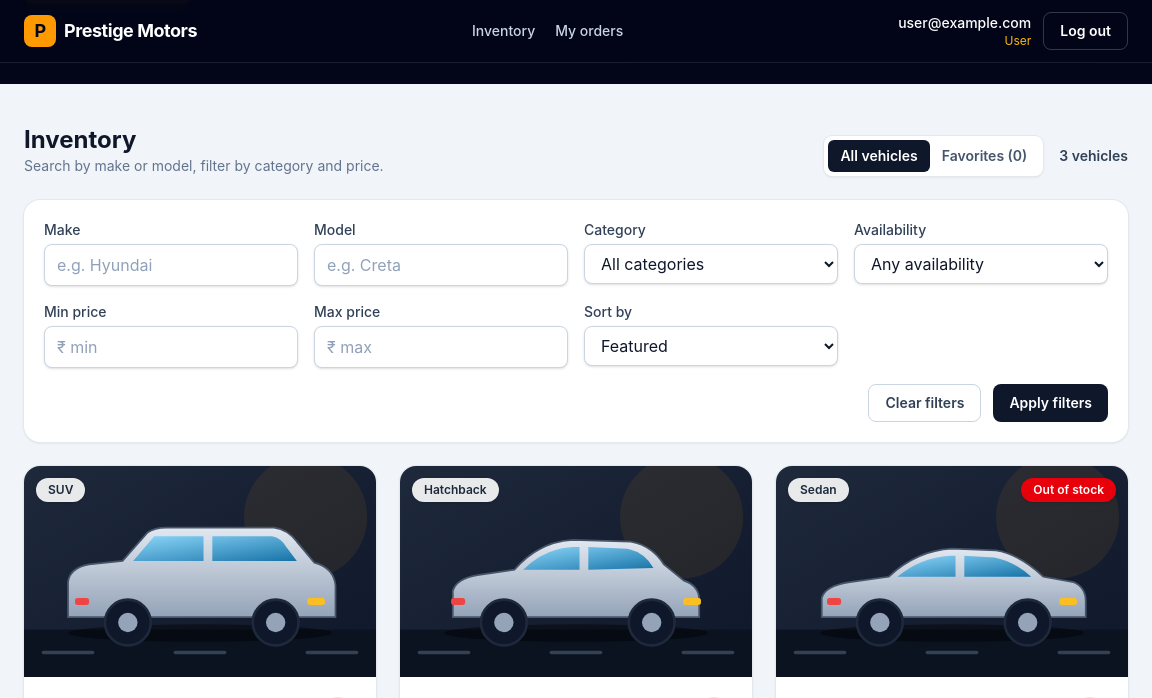
favorites › shows an empty state when the user has no favorites
This screenshot has width=1152, height=698.
(page scrolled)
Click the button "Favorites (0)": (984, 156) [930, 140, 1039, 172]
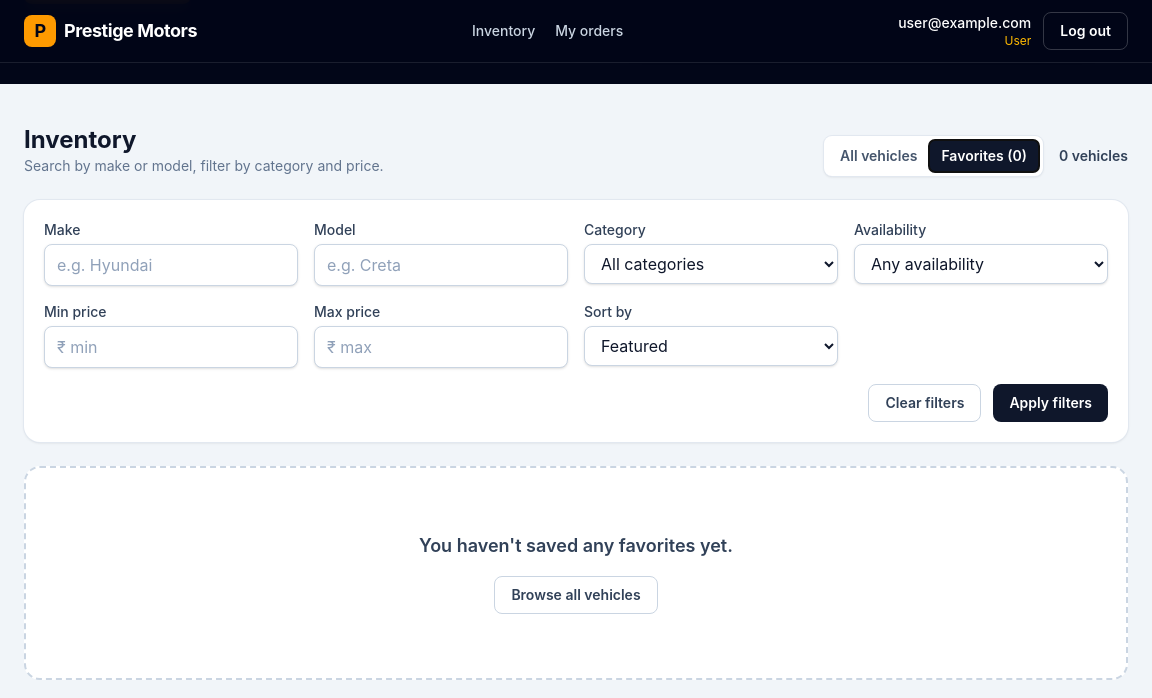
Expected: the text "You haven't saved any favorites yet." is shown, [419, 535, 733, 556]
